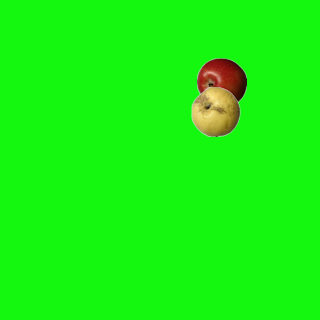Apple Braeburn: (196, 57, 246, 107)
Apple Golden 1: (190, 86, 240, 136)
